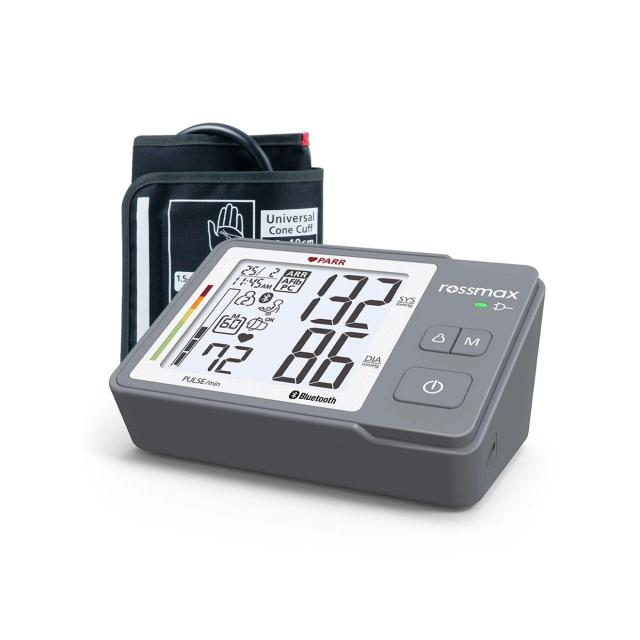dia: (251, 310, 381, 402)
pul: (175, 326, 267, 384)
ssd: (154, 250, 412, 402)
sys: (281, 260, 413, 335)
